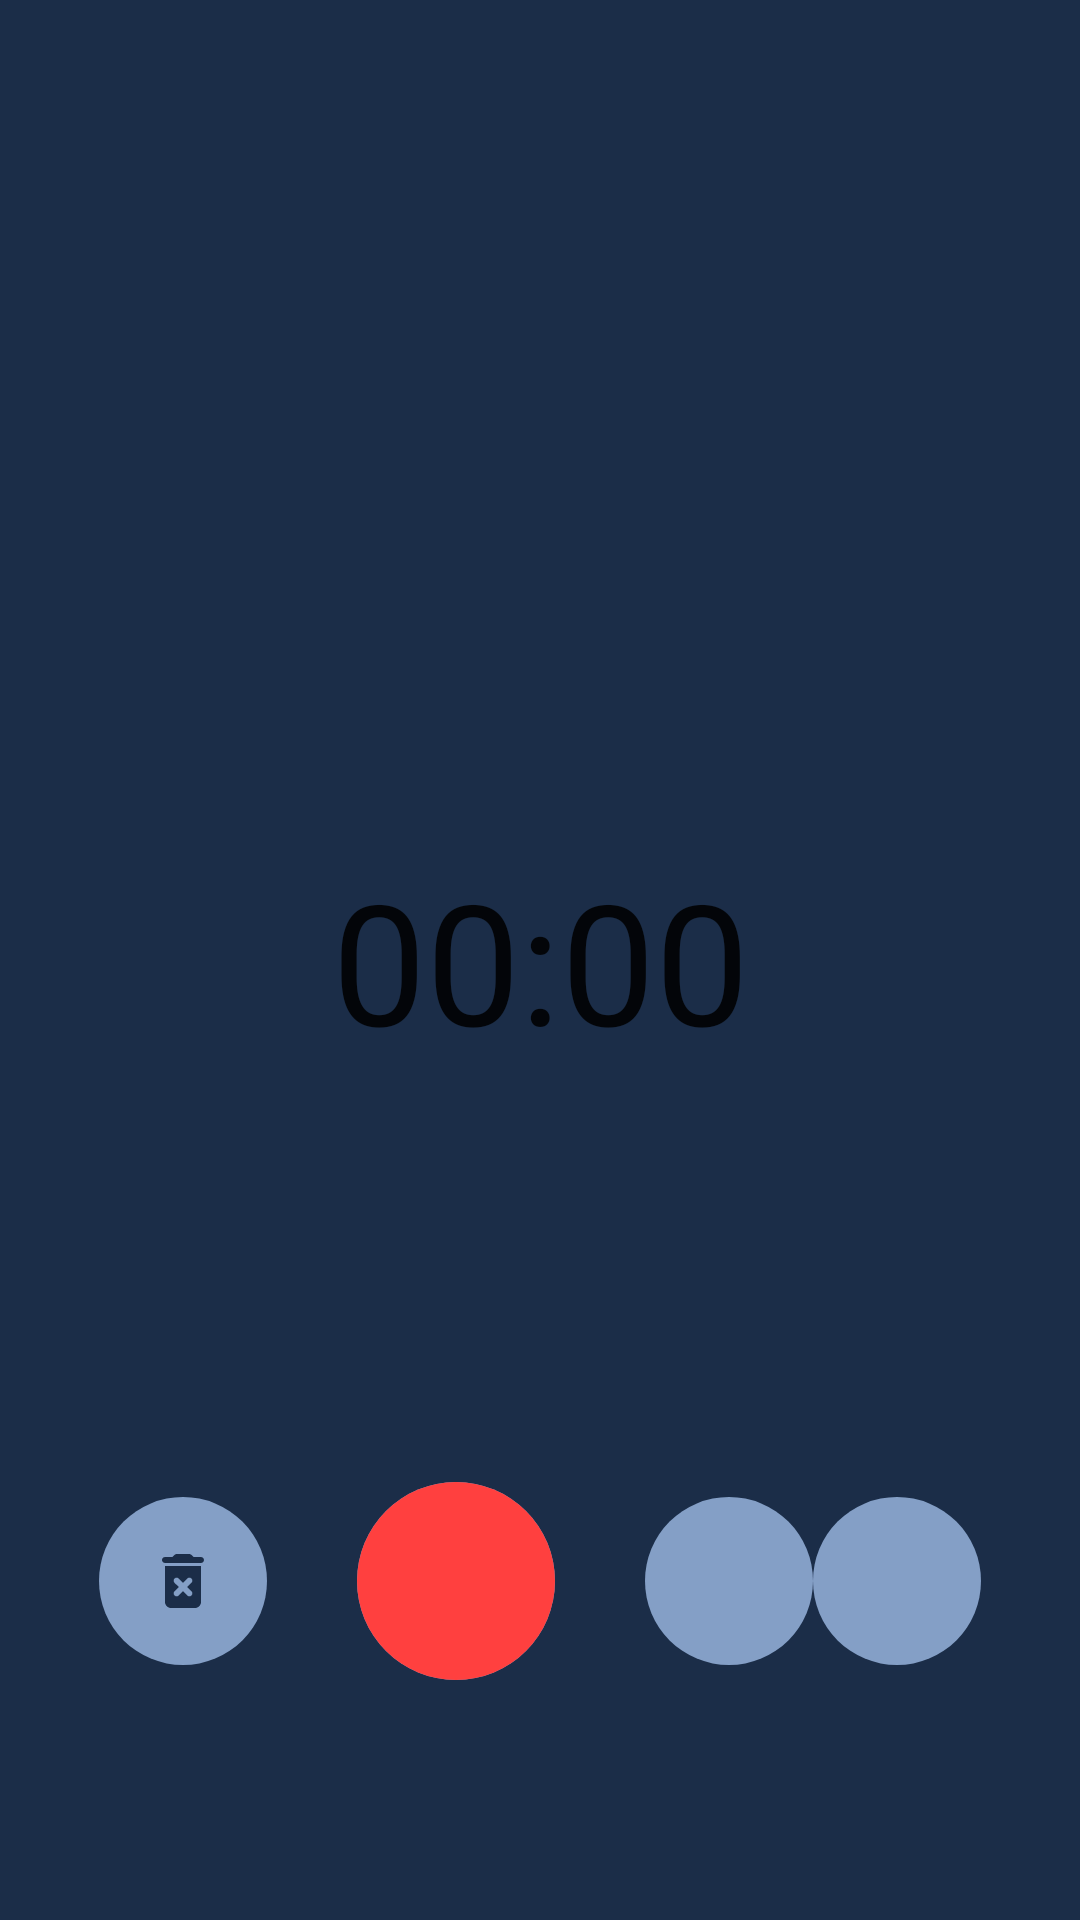

Where to tap for icons on this 1080px×1920px app screen, as (x,y):
trashcan: (183,1581)
